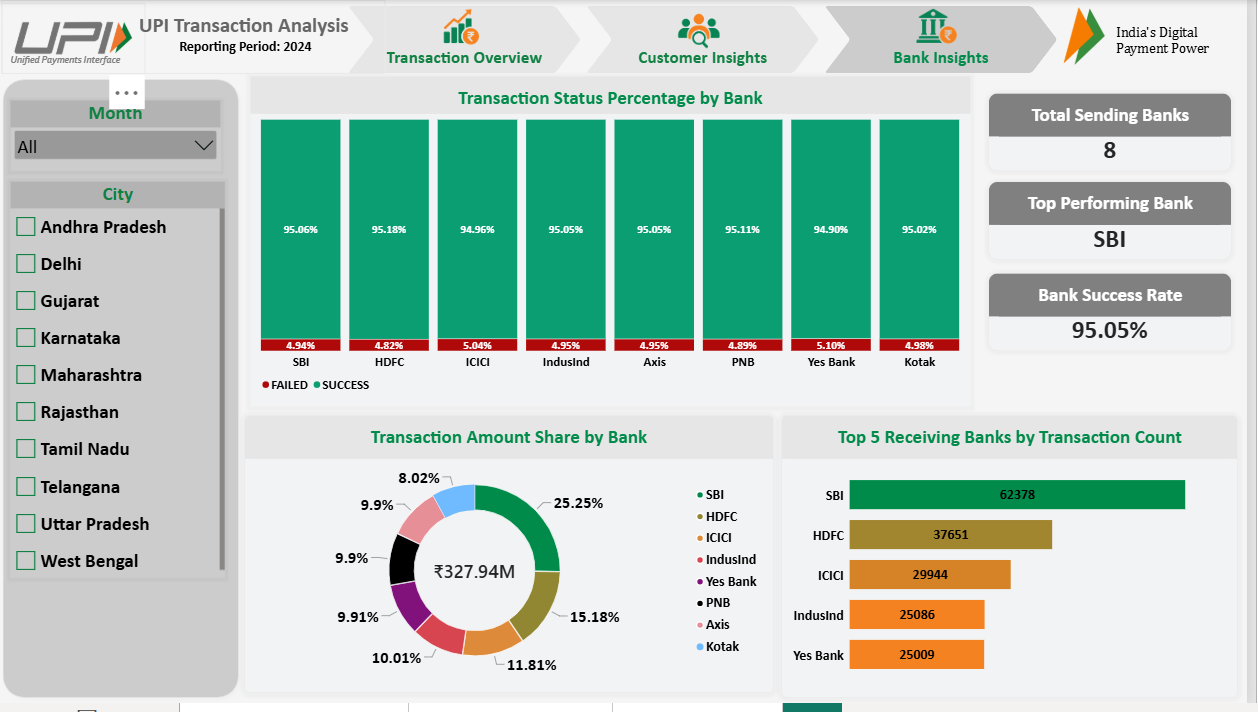

The page's visual inventory and layout, read from the dashboard file:
{"tool":"powerbi","page":{"name":"Bank Insights","canvas":[1920,1080],"ordinal":2},"visuals":[{"type":"image","box":[6.9,4.6,221.2,108.3],"z":0,"group":"g1"},{"type":"textbox","box":[161.3,0,435.5,94.5],"z":1000,"group":"g1"},{"type":"pageNavigator","box":[539.2,9.2,1092.3,103.7],"z":2000},{"type":"shape","box":[0,112.1,380.2,967.9],"z":3000},{"type":"image","box":[1610.8,4.6,115.2,101.4],"z":4000},{"type":"textbox","box":[1719.1,36.9,189,87.6],"z":5000},{"type":"image","box":[629.1,4.6,163.6,71.4],"z":6000},{"type":"image","box":[995.5,9.2,163.6,71.4],"z":7000},{"type":"image","box":[1359.6,4.6,163.6,71.4],"z":8000},{"type":"slicer","title":"City","fields":{"Values":["upi_transactions_2024.sender_state"]},"box":[20.7,278.8,329.5,608.4],"z":9000},{"type":"slicer","title":"Month","fields":{"Values":["Date_Table.Date.Variation.Date Hierarchy.Month"]},"box":[20.7,154.4,322.6,108.3],"z":10000},{"type":"card","title":"Total Sending Banks","fields":{"Values":["Calculated_measures.total_sending_banks"]},"box":[1523.2,142.9,373.3,119.8],"z":11000},{"type":"card","title":"Top Performing Bank","fields":{"Values":["Calculated_measures.top_performing_bank"]},"box":[1523.2,278.8,373.3,119.8],"z":12000},{"type":"hundredPercentStackedColumnChart","title":"Transaction Status Percentage by Bank","fields":{"Category":["upi_transactions_2024.sender_bank"],"Series":["upi_transactions_2024.transaction_status"],"Y":["Calculated_measures.transaction_count_total"]},"box":[389.5,117.5,1106.1,507],"z":13000},{"type":"donutChart","title":"Transaction Amount Share by Bank","fields":{"Category":["upi_transactions_2024.sender_bank"],"Y":["Calculated_measures.total_transaction_amount"]},"box":[380.2,638.3,813.5,426.3],"z":14000},{"type":"clusteredBarChart","title":"Top 5 Receiving Banks by Transaction Count","fields":{"Category":["upi_transactions_2024.receiver_bank"],"Y":["Calculated_measures.transaction_count_total"]},"box":[1205.2,638.3,700.6,433.2],"z":15000},{"type":"card","title":"Bank Success Rate","fields":{"Values":["Calculated_measures.transaction_success_rate"]},"box":[1523.2,419.4,373.3,119.8],"z":16000},{"type":"group","id":"g1","title":"Group 1","box":[6.9,0,589.9,112.9],"z":16001},{"type":"textbox","box":[20.7,62.2,230.4,43.8],"z":18001,"group":"g1"}]}

Visuals, with their boxes in screenshot pixels (x1, y1, x2, y2), scaled from the page's 1920x1080 canvas onto the 1258x712 screenshot:
image: <region>5, 3, 149, 74</region>
textbox: <region>106, 0, 391, 62</region>
pageNavigator: <region>353, 6, 1069, 74</region>
shape: <region>0, 74, 249, 711</region>
image: <region>1055, 3, 1131, 70</region>
textbox: <region>1126, 24, 1250, 82</region>
image: <region>412, 3, 519, 50</region>
image: <region>652, 6, 759, 53</region>
image: <region>891, 3, 998, 50</region>
"City" slicer: <region>14, 184, 229, 585</region>
"Month" slicer: <region>14, 102, 225, 173</region>
"Total Sending Banks" card: <region>998, 94, 1243, 173</region>
"Top Performing Bank" card: <region>998, 184, 1243, 263</region>
"Transaction Status Percentage by Bank" hundredPercentStackedColumnChart: <region>255, 77, 980, 412</region>
"Transaction Amount Share by Bank" donutChart: <region>249, 421, 782, 702</region>
"Top 5 Receiving Banks by Transaction Count" clusteredBarChart: <region>790, 421, 1249, 706</region>
"Bank Success Rate" card: <region>998, 276, 1243, 355</region>
"Group 1" group: <region>5, 0, 391, 74</region>
textbox: <region>14, 41, 165, 70</region>
